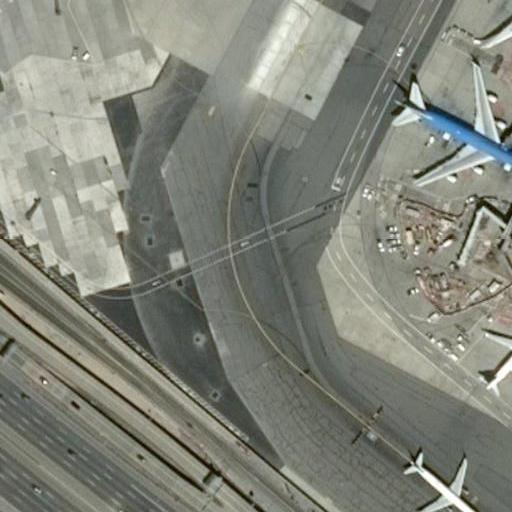Aircraft: (386, 63, 512, 187), (400, 446, 487, 512), (455, 0, 512, 51), (479, 310, 512, 397)
